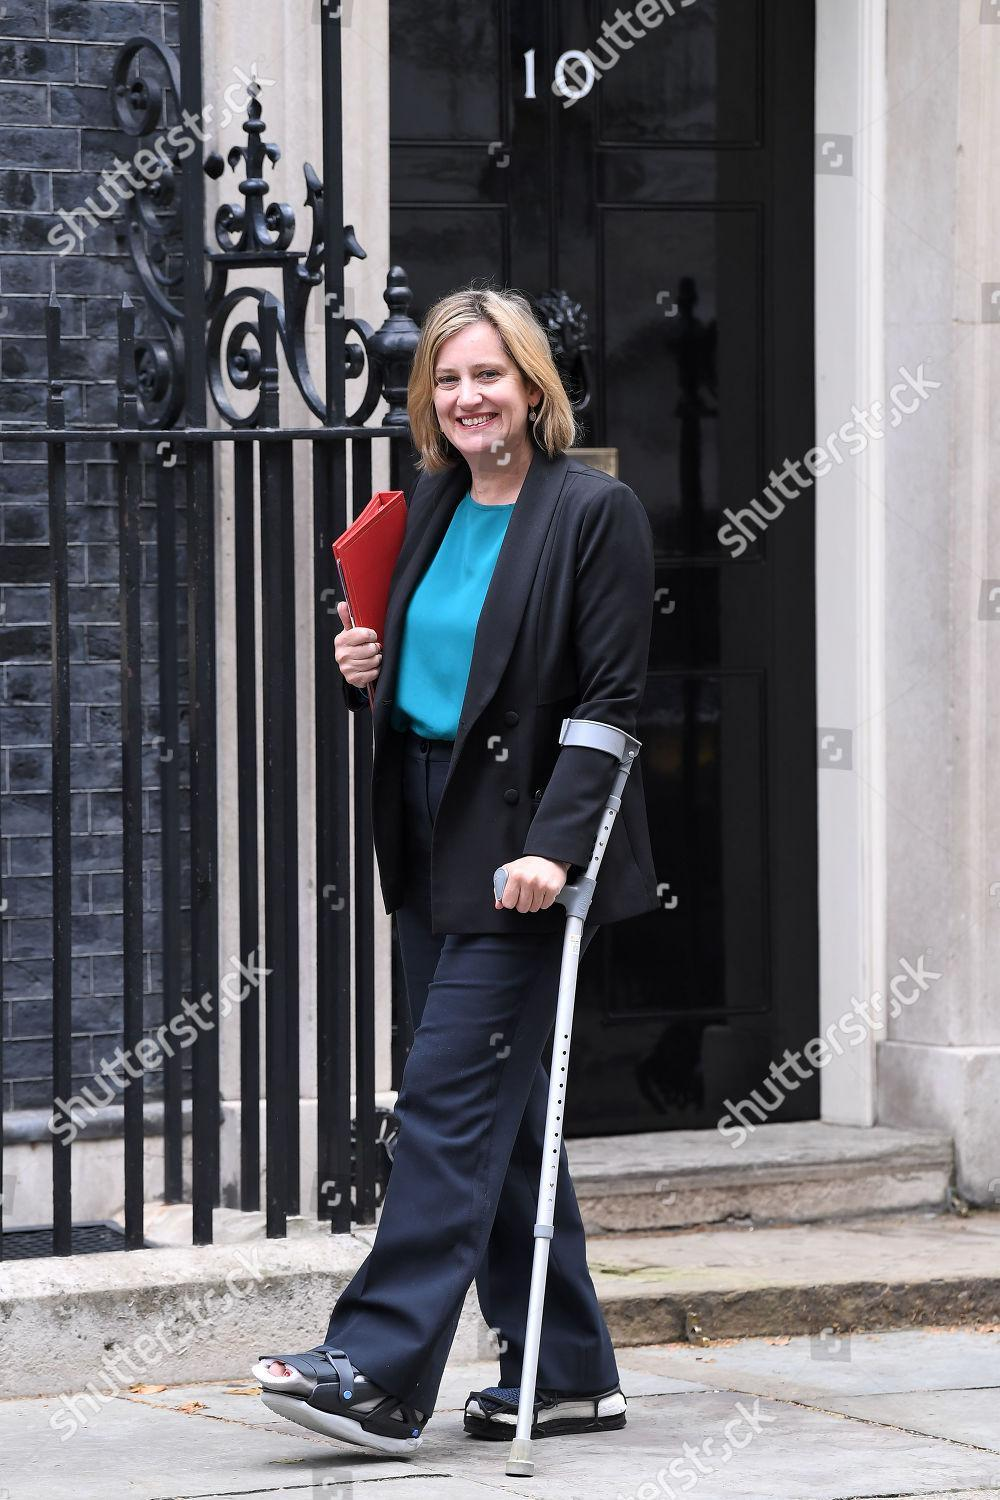crutches: (234, 265, 677, 1485)
